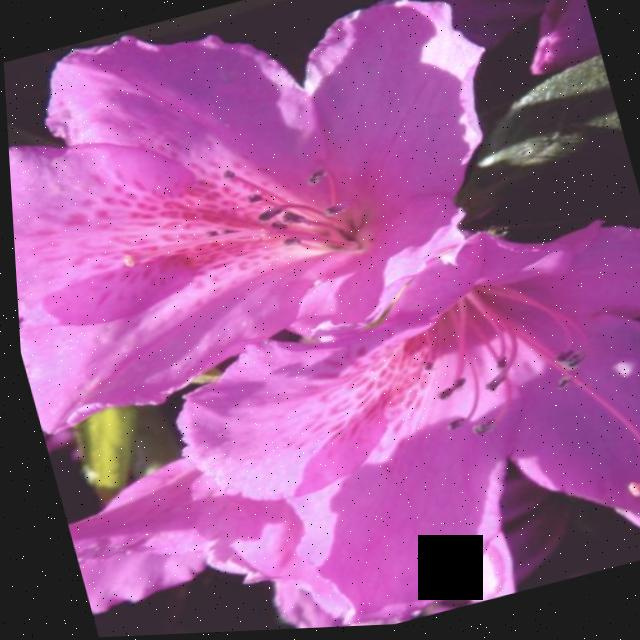azalea: (0, 0, 549, 421), (156, 206, 640, 635)
